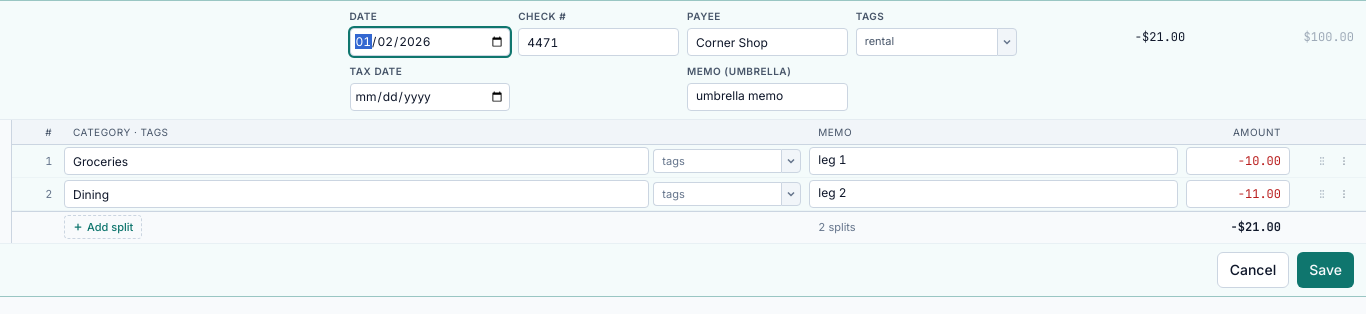
Scenario: the split branch renders at all › never lets the last posting be removed
Click the button named "Actions for posting 1". click: click(1344, 161)
box: [1334,151,1354,171]
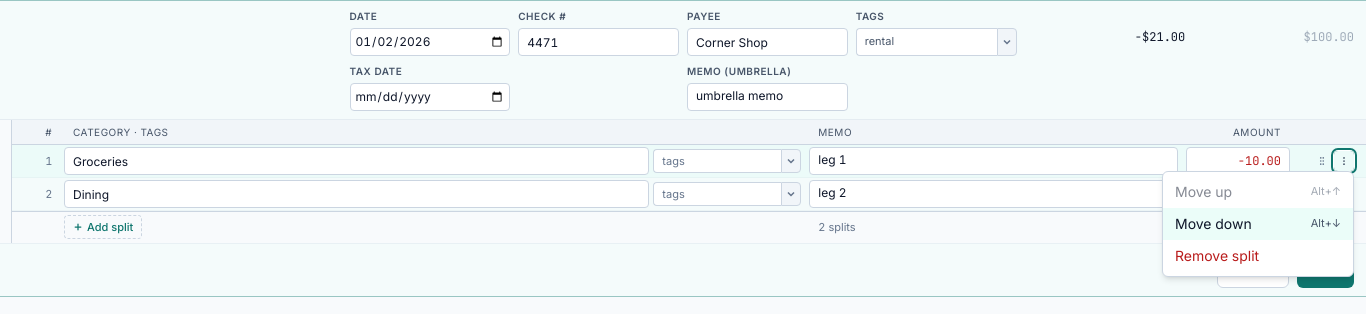
Click the menu item "Remove split". click: click(1258, 256)
box: [1163,240,1353,272]
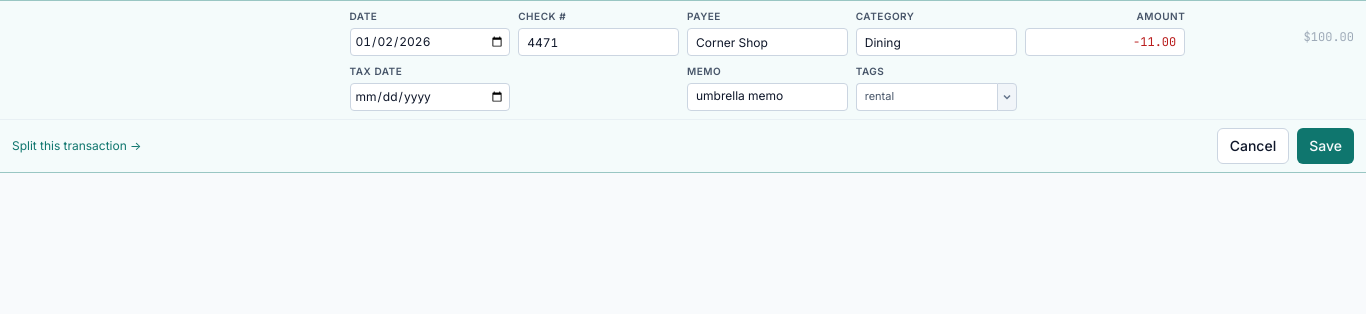
Expected: the number field labelled "Amount" is shown, [1024,28,1185,56]
